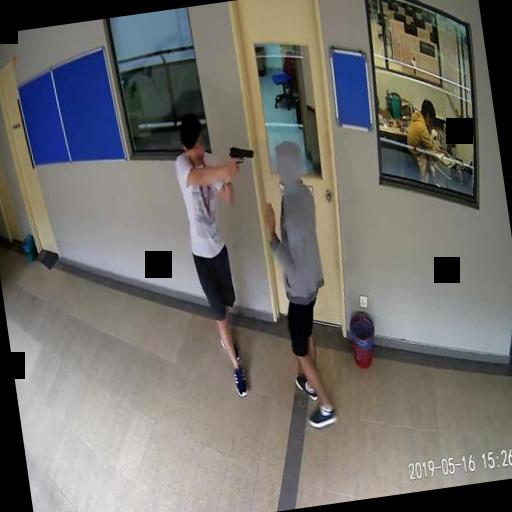Handgun: (228, 142, 256, 174)
